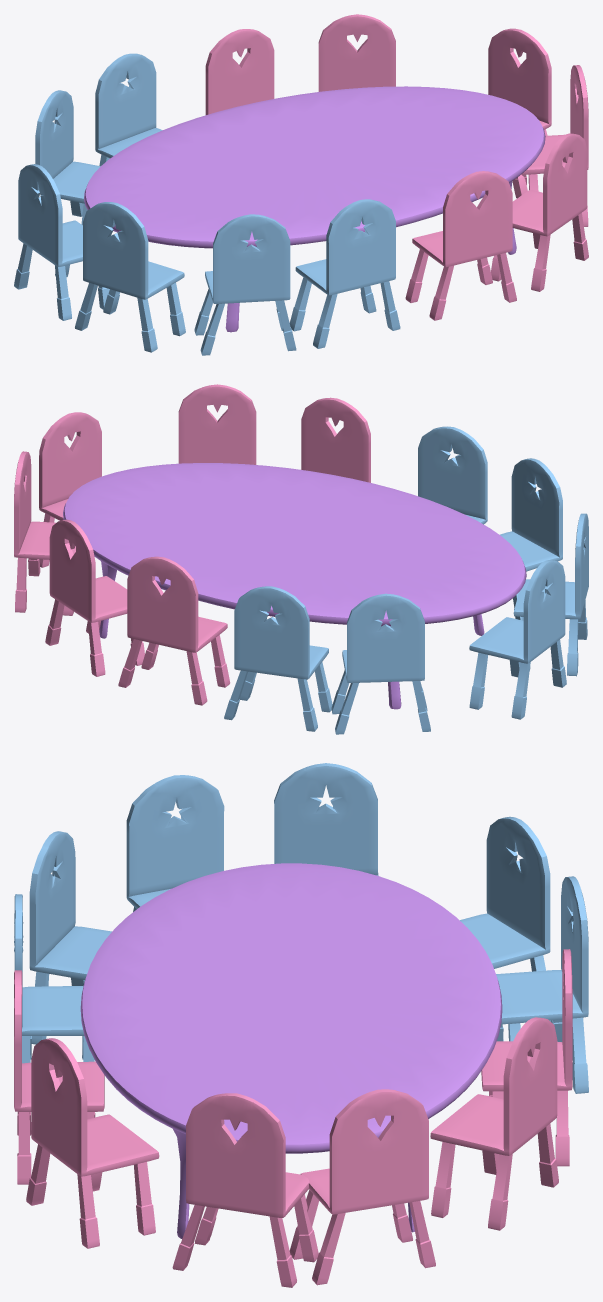
Rendered from chair+and+table.fbx.
3 views of the same model, one above another, from view 1: azimuth 30°, elevation 25°; view 2: azimuth 150°, elevation 25°; view 3: azimuth 270°, elevation 25° (orthographic). The views are drawn at different scales.
Visible parts, largest first — view 1: table, chair.001, chair, chair.008, chair.007, chair.002, chair.009, chair.011, chair.004, chair.006, chair.005, chair.010 (+1 smaller); view 2: table, chair.005, chair.011, chair.010, chair.009, chair.004, chair.002, chair.001, chair.007, chair.003, chair, chair.006 (+1 smaller); view 3: table, chair.003, chair.006, chair.004, chair.002, chair.008, chair.009, chair.010, chair.007, chair.011, chair.001, chair.005 (+1 smaller).
Boxes of the visible parts, x1=… form: table: x1=84, y1=86, x2=545, y2=332; chair.001: x1=289, y1=199, x2=400, y2=348; chair: x1=405, y1=171, x2=516, y2=320; chair.008: x1=75, y1=202, x2=185, y2=352; chair.007: x1=194, y1=214, x2=296, y2=355; chair.002: x1=491, y1=133, x2=588, y2=291; chair.009: x1=14, y1=164, x2=109, y2=320; chair.011: x1=95, y1=53, x2=162, y2=166; chair.004: x1=318, y1=14, x2=395, y2=91; chair.006: x1=488, y1=28, x2=551, y2=198; chair.005: x1=205, y1=29, x2=274, y2=114; chair.010: x1=35, y1=90, x2=100, y2=225; table: x1=63, y1=463, x2=526, y2=709; chair.005: x1=118, y1=556, x2=230, y2=705; chair.011: x1=224, y1=586, x2=332, y2=731; chair.010: x1=331, y1=593, x2=430, y2=734; chair.009: x1=469, y1=560, x2=566, y2=719; chair.004: x1=45, y1=519, x2=144, y2=676; chair.002: x1=178, y1=384, x2=256, y2=464; chair.001: x1=418, y1=426, x2=487, y2=524; chair.007: x1=500, y1=458, x2=562, y2=620; chair.003: x1=39, y1=412, x2=101, y2=567; chair: x1=301, y1=397, x2=370, y2=482; chair.006: x1=14, y1=451, x2=75, y2=615; table: x1=80, y1=863, x2=502, y2=1238; chair.003: x1=172, y1=1093, x2=318, y2=1287; chair.006: x1=289, y1=1089, x2=435, y2=1285; chair.004: x1=430, y1=1017, x2=558, y2=1230; chair.002: x1=26, y1=1038, x2=159, y2=1248; chair.008: x1=126, y1=775, x2=224, y2=911; chair.009: x1=274, y1=763, x2=378, y2=875; chair.010: x1=460, y1=816, x2=550, y2=1041; chair.007: x1=29, y1=831, x2=111, y2=1044; chair.011: x1=496, y1=876, x2=588, y2=1093; chair.001: x1=14, y1=894, x2=94, y2=1063; chair.005: x1=481, y1=949, x2=572, y2=1166.
Size of the model in its own units: 257 by 70.24 by 183.
